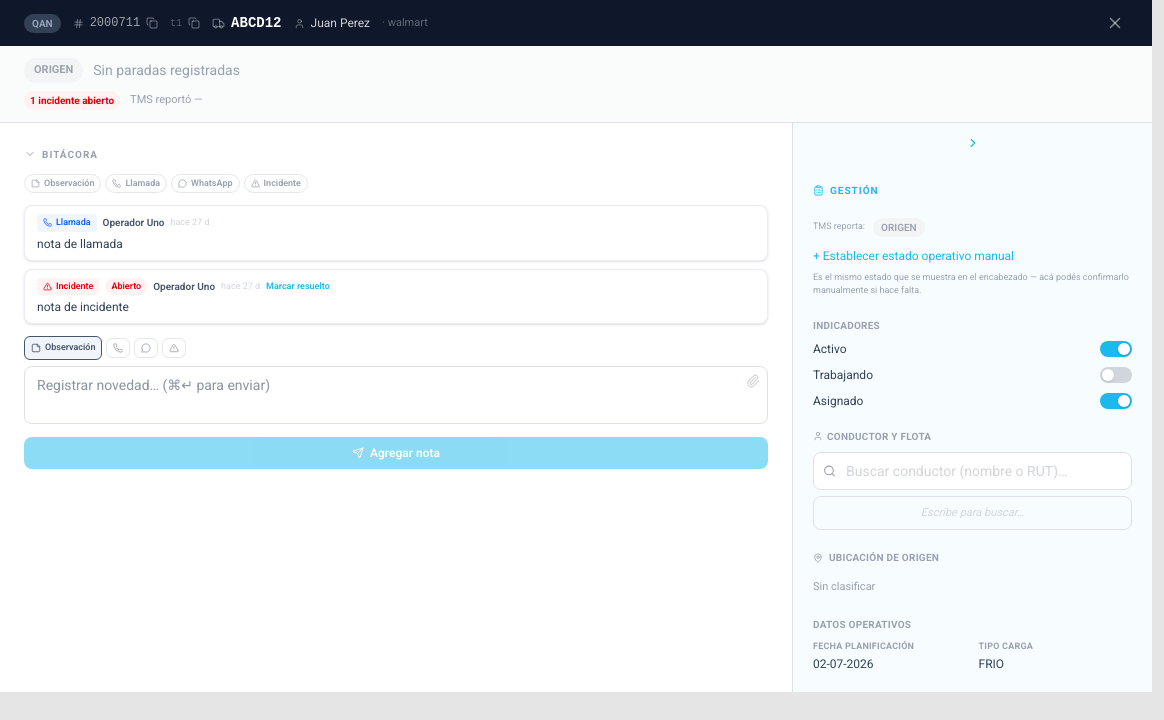
Test: TripDetailView — Bitácora (feed con historial) › filters the feed by note type
expect the text "nota de llamada" is shown: met, box [37,236,123,250]
Click the button "Incidente" at (276, 183), box [244,174,308,193]
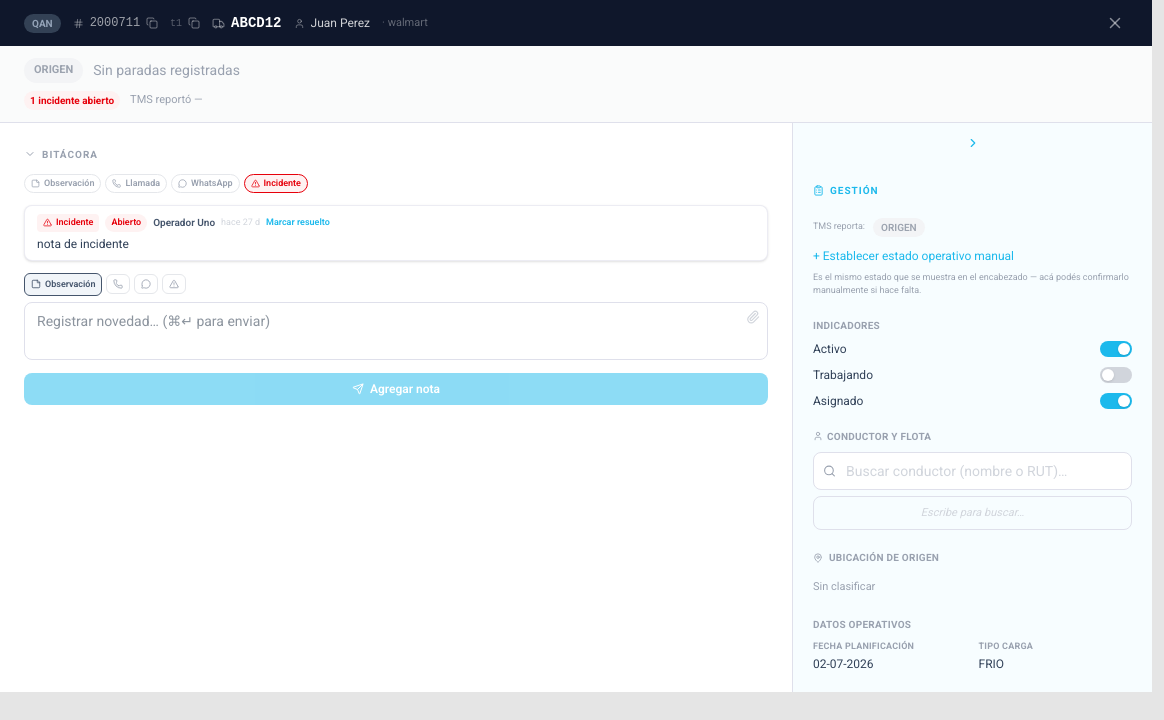
expect the text "nota de incidente" is shown: met, box [37,236,129,250]
expect the text "nota de llamada" is gone: met
